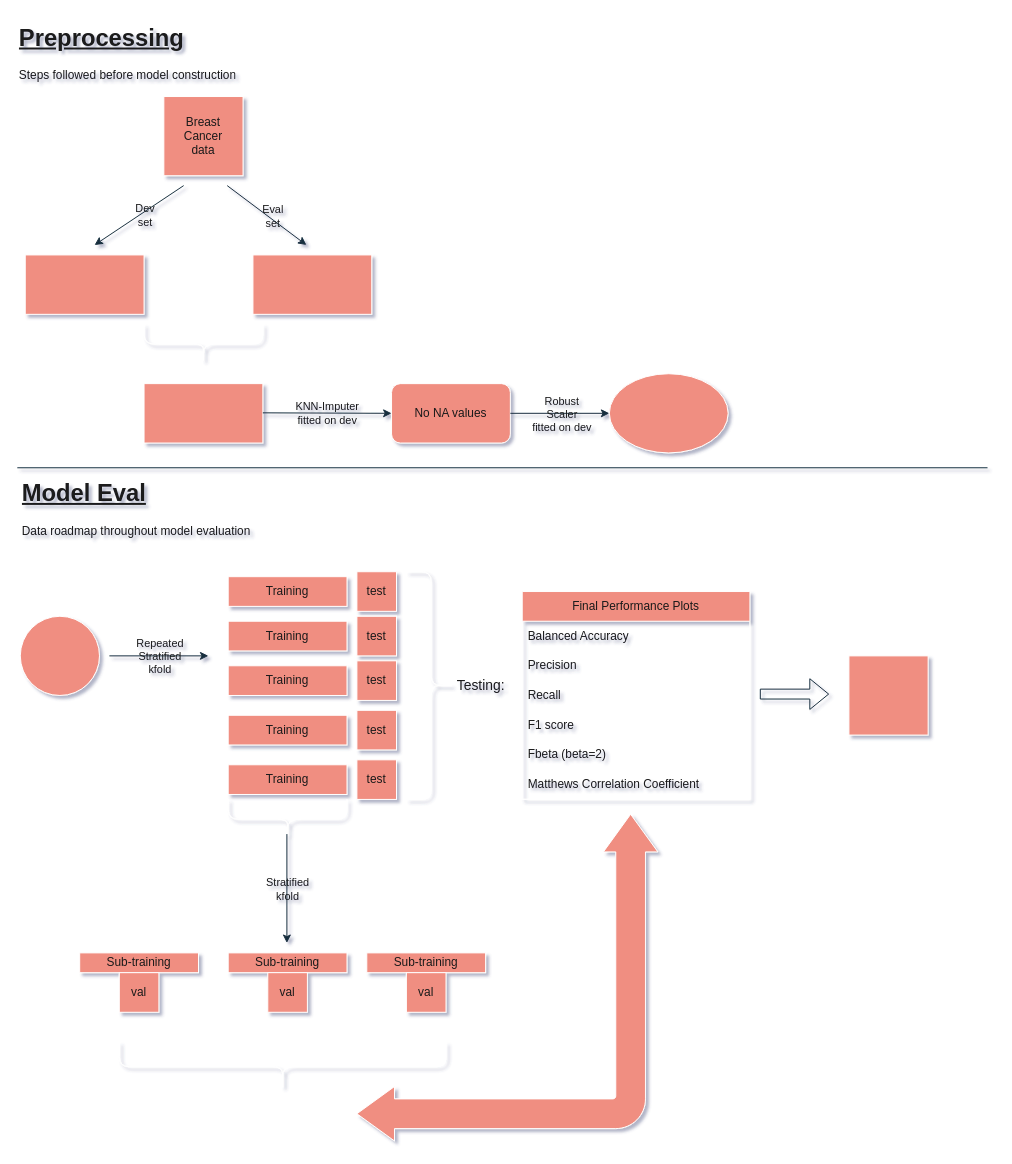
Image size: 1012x1164. Some labels were removed from this diagram. The shapes that lost their labels are listed below. From the top down, each one's centre as x and y in pixels, then its label:
the point at 84,284: 412 samples
the point at 312,284: 100 samples (50b/50m)
the point at 203,413: Data
the point at 668,413: Finalized data
the point at 59,655: Final Dev-set
the point at 888,695: Bootstrapping on Eval set
the point at 282,1066: Model Selection/ Hyperparam Tuning (Voting)
